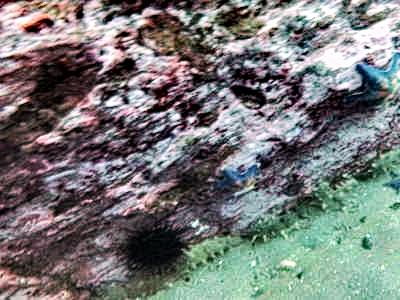urchin: (118, 219, 187, 271)
